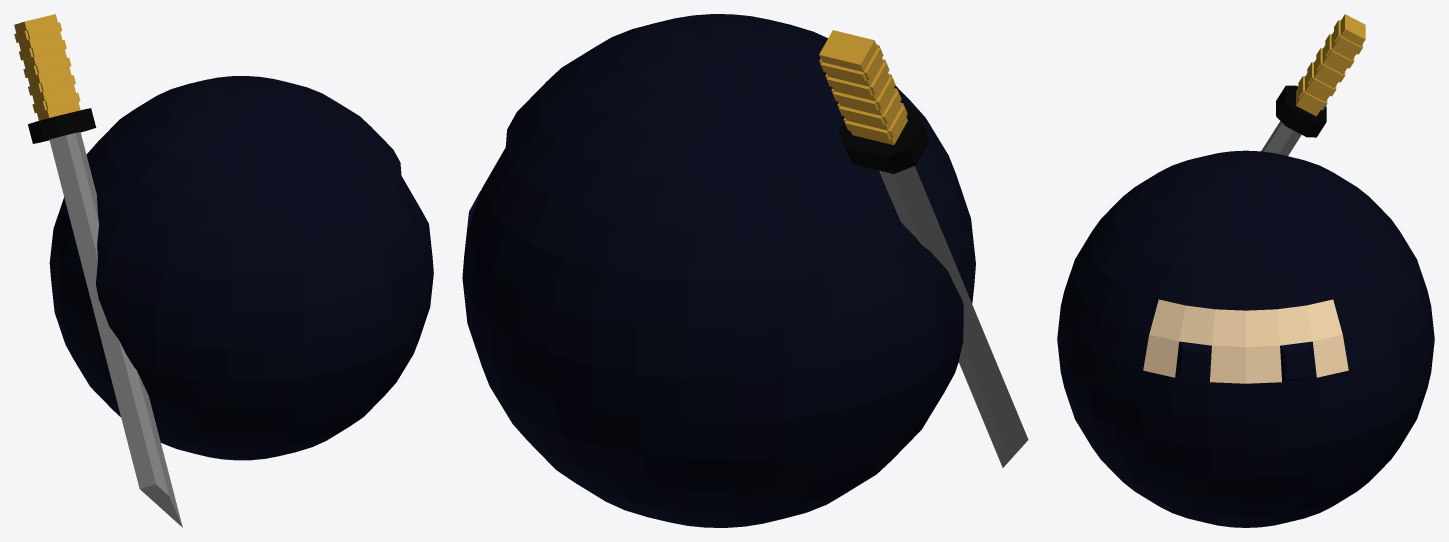
Rendered from ninja.glb.
The picture shows the model from 3 angles, left to right: view 1: azimuth 30°, elevation 25°; view 2: azimuth 150°, elevation 25°; view 3: azimuth 270°, elevation 25°; orthographic projection. The views are drawn at different scales.
Parts seen in each view (by area): view 1: Sphere, Cube; view 2: Sphere, Cube; view 3: Sphere, Cube.
Part boxes in pixels (x1,y1,x2,y2): Sphere: (49, 76, 433, 460); Cube: (14, 14, 182, 527); Sphere: (462, 14, 975, 527); Cube: (819, 30, 1028, 467); Sphere: (1057, 150, 1434, 527); Cube: (1261, 14, 1365, 156).
Bounding box in the file's own units: 2.07 × 2.43 × 2.
